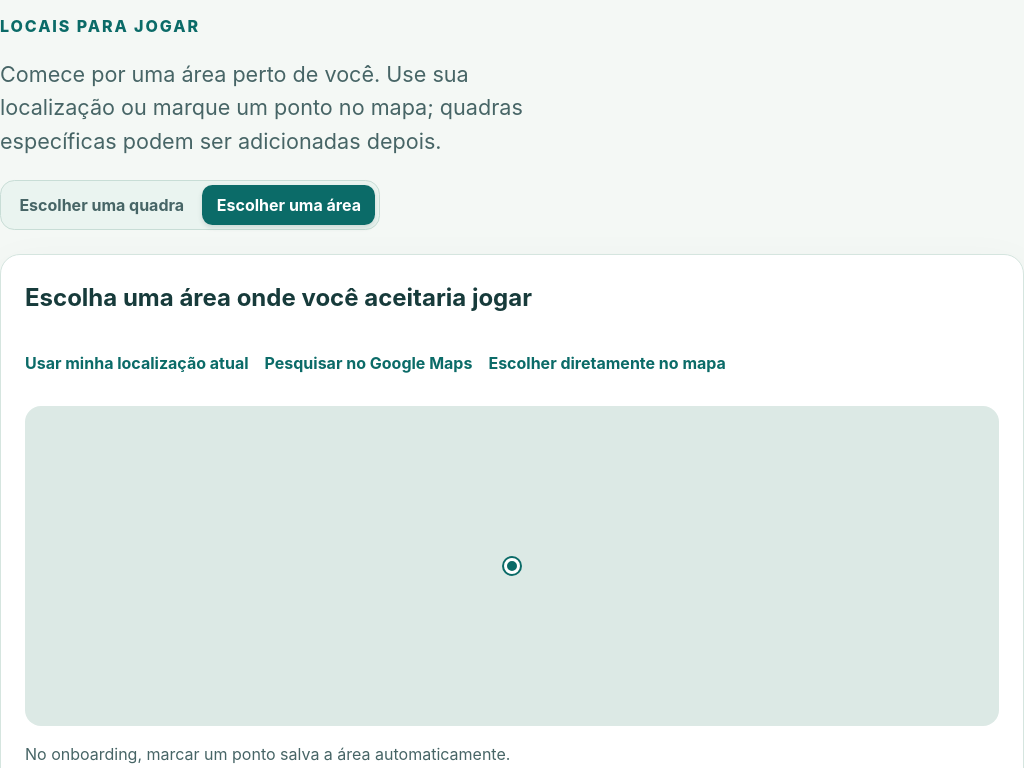
Test case: locations page › starts onboarding with an area and saves current location automatically
The width and height of the screenshot is (1024, 768).
expect the text "Comece por uma área perto de você" is shown: met, box [0, 61, 523, 154]
Click the button "Usar minha localização atual". click: (137, 364)
box: [25, 338, 248, 390]
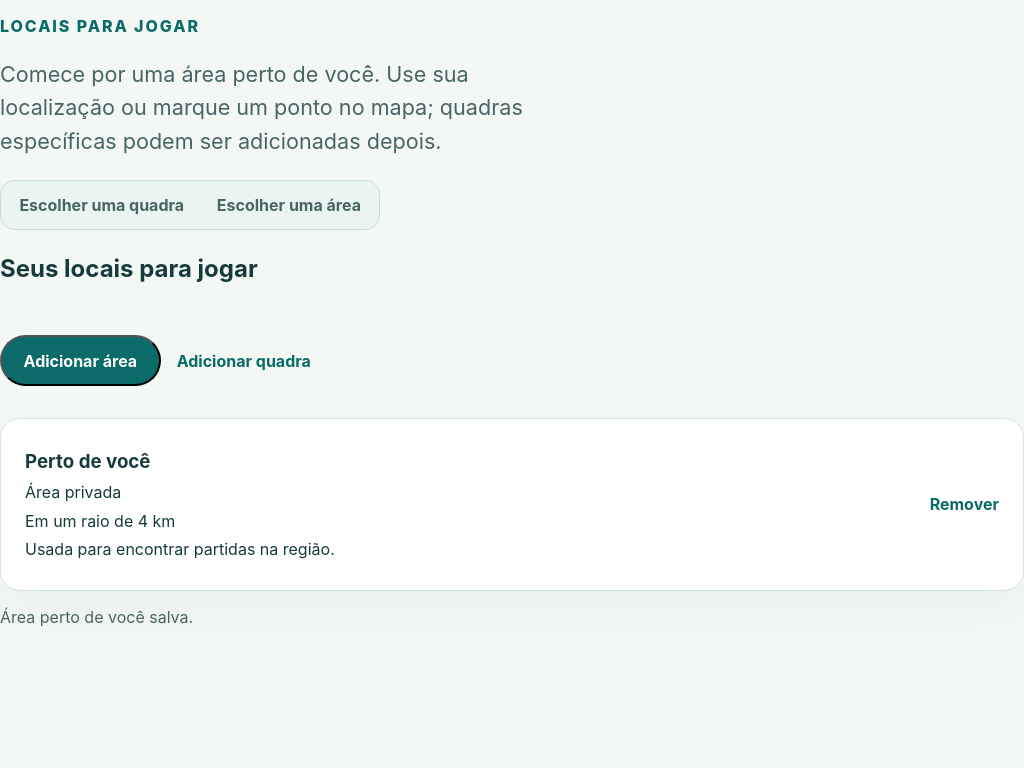
expect the text "Área perto de você salva." is shown: met, box [0, 607, 193, 627]
